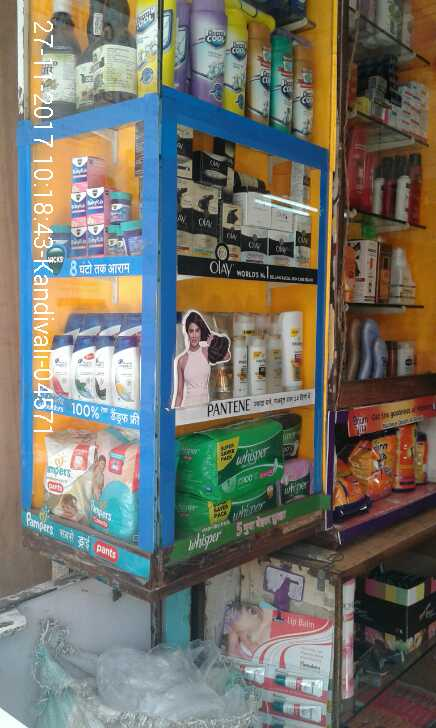vicks: (45, 148, 139, 257)
